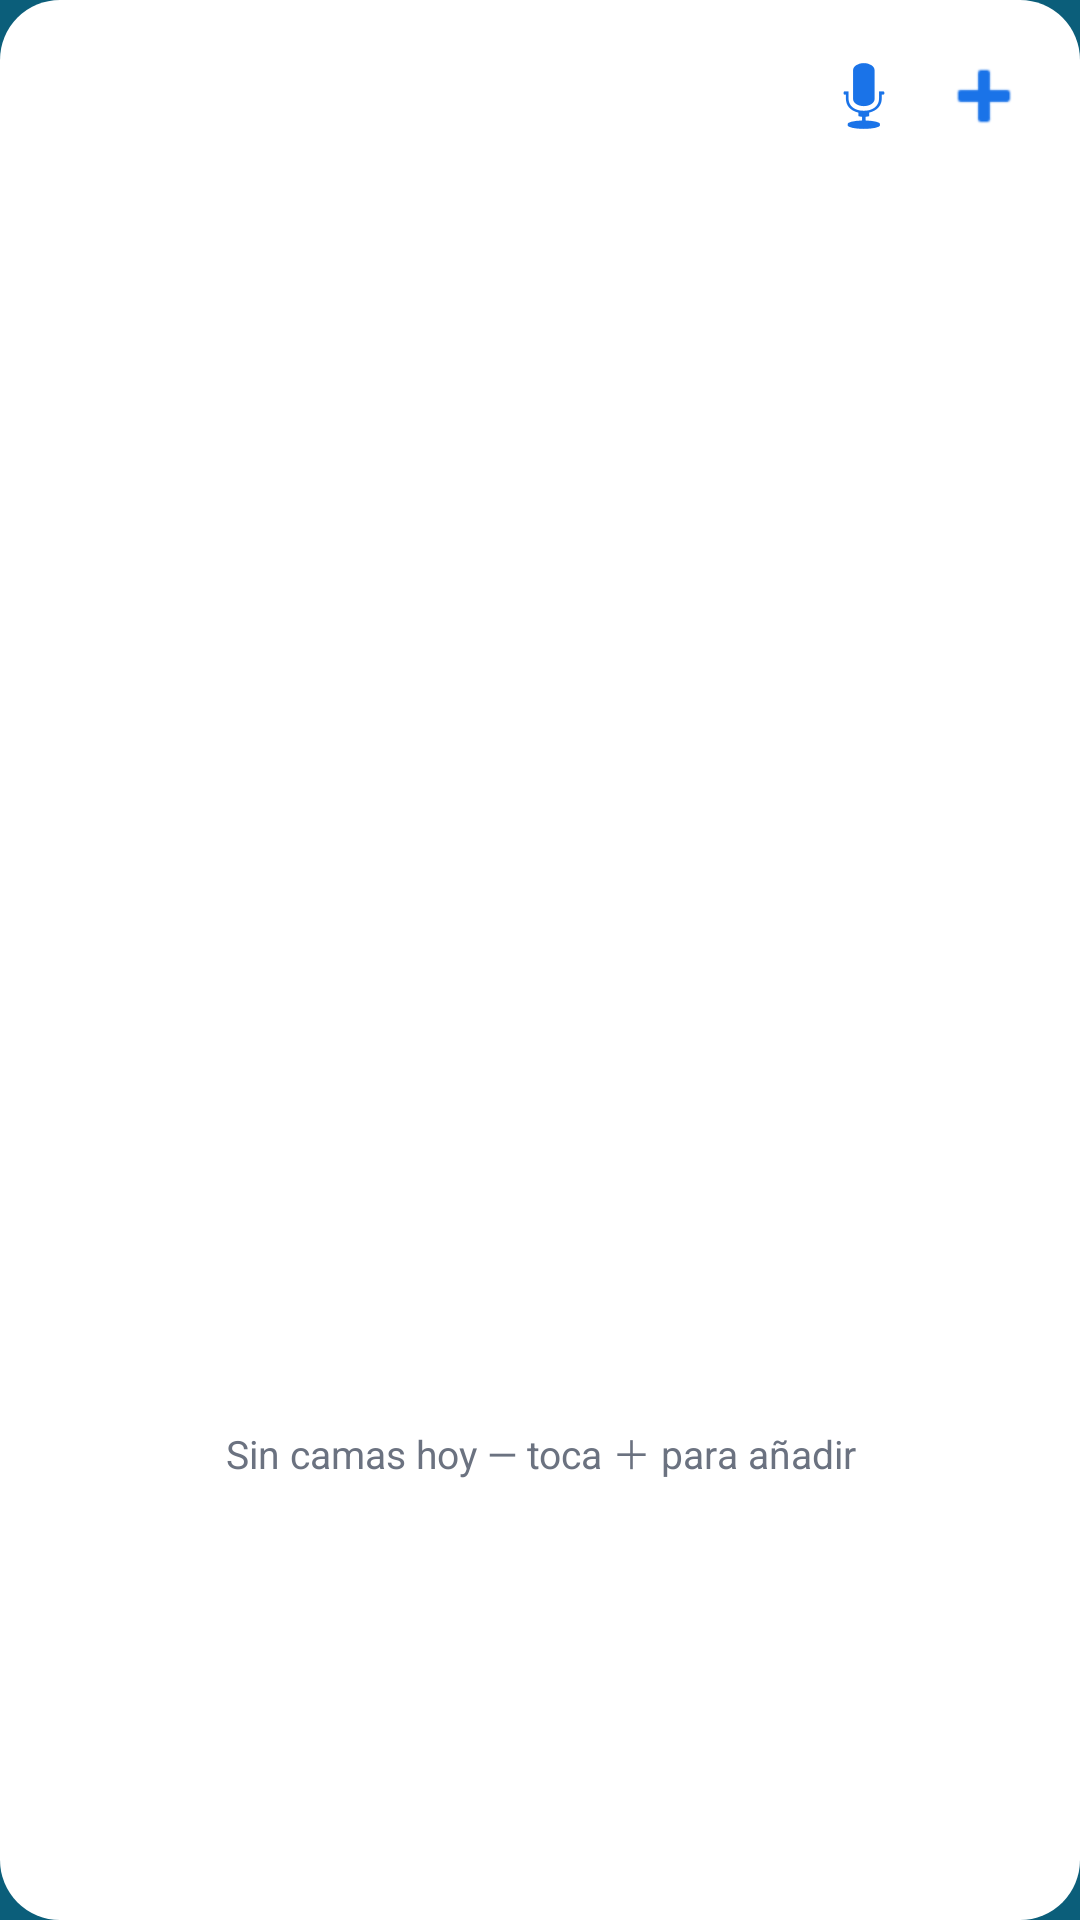

Named icons in this screenshot (1080px×1920px) and their centers, (x=x, y=y):
Añadir tarjeta: (x=984, y=96)
Dictar tarjeta: (x=864, y=96)
